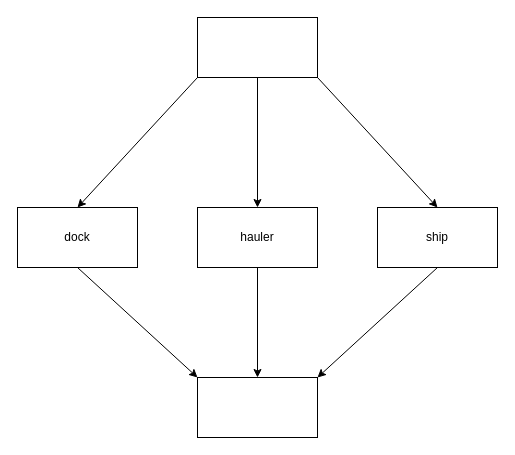
Some shapes in this 515 by 455 pixel diagram are drawn without their labels. The centre of each missing label's shape, as x and y in pixels:
"database" goes at point (257, 407).
"main" goes at point (257, 47).
